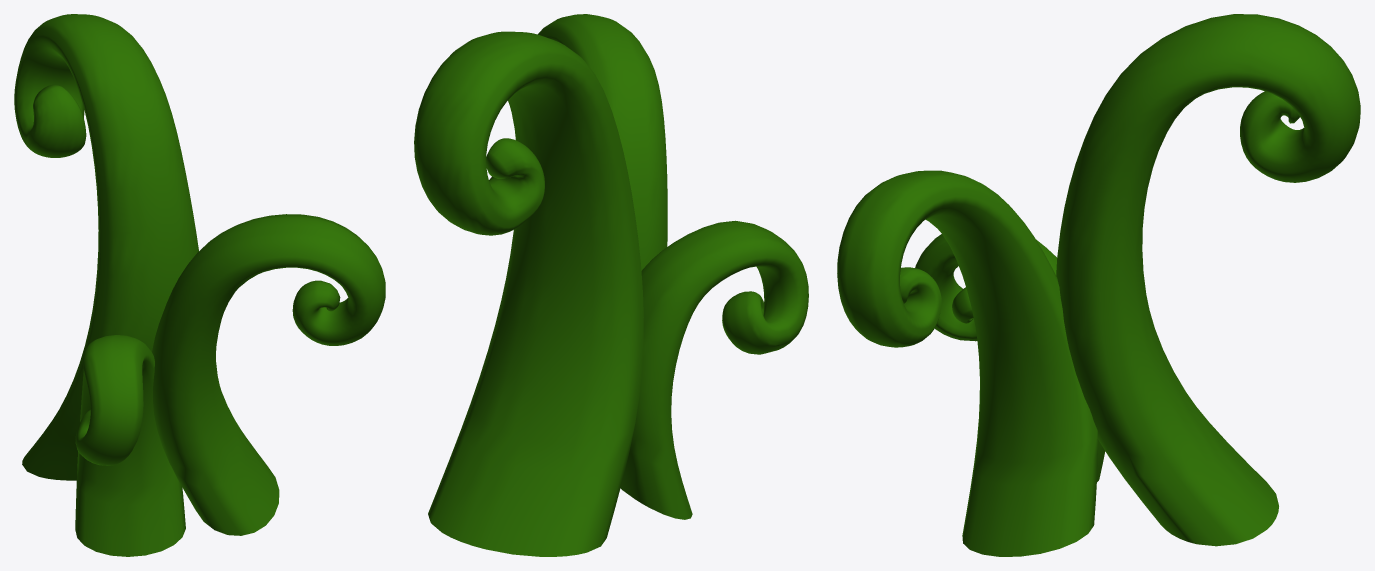
File: SM_plant_01.fbx
The picture shows the model from 3 angles, left to right: view 1: azimuth 30°, elevation 25°; view 2: azimuth 150°, elevation 25°; view 3: azimuth 270°, elevation 25°; orthographic projection. The views are drawn at different scales.
Parts seen in each view (by area): view 1: Plant_01; view 2: Plant_01; view 3: Plant_01.
Part boxes in pixels (box(x1,y1,x2,y2)): Plant_01: box(14, 14, 385, 556); Plant_01: box(414, 14, 808, 556); Plant_01: box(837, 14, 1360, 556).
Size of the model in its own units: 232 by 368 by 338.
